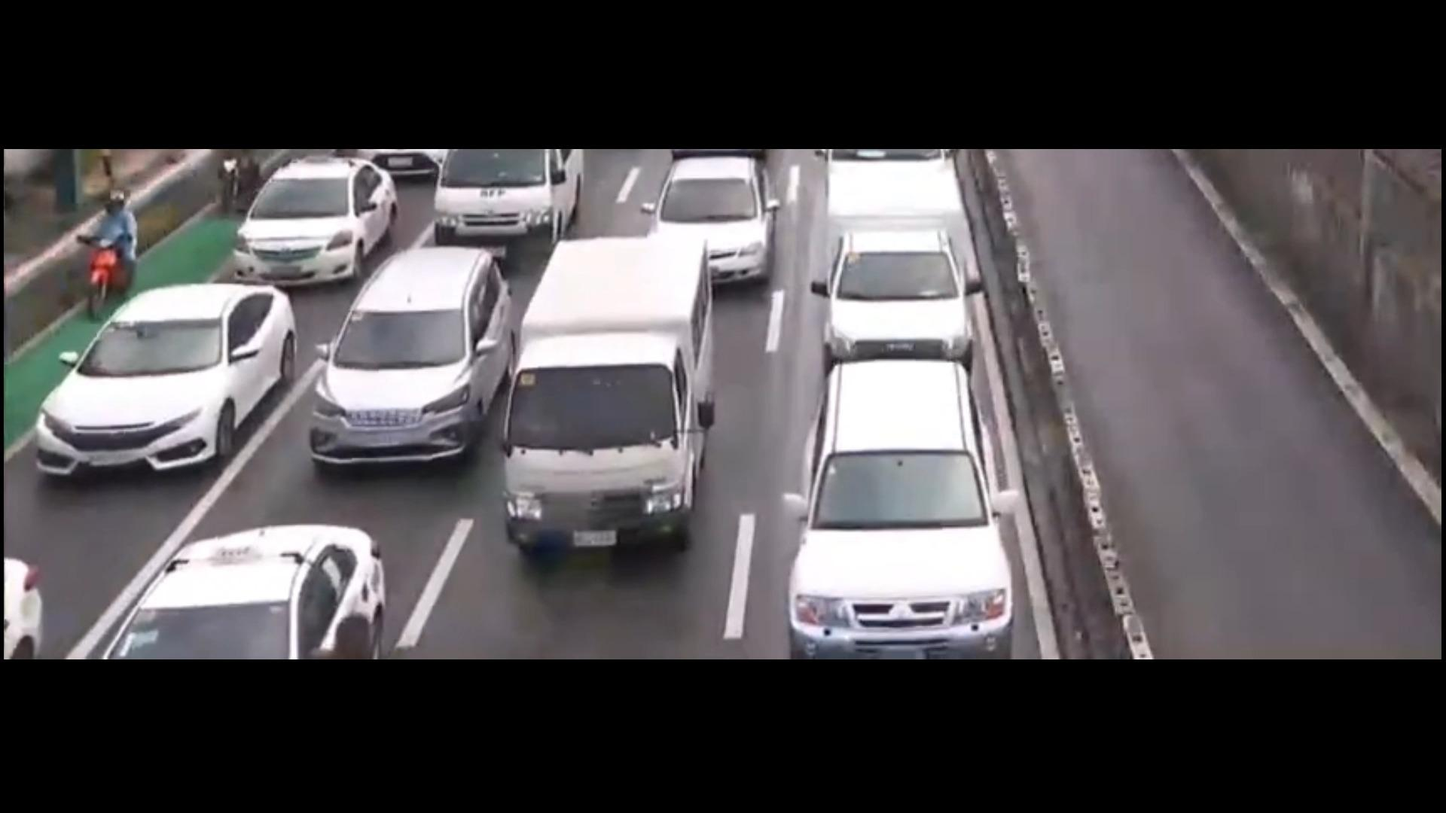Motorcycle: (60, 181, 147, 299)
Multicab: (482, 230, 727, 564)
SUV: (768, 326, 1036, 648), (277, 236, 518, 496)
Sedan: (18, 260, 322, 505), (84, 522, 422, 671), (233, 149, 411, 307), (640, 157, 799, 289)
Truck: (797, 158, 996, 376)
